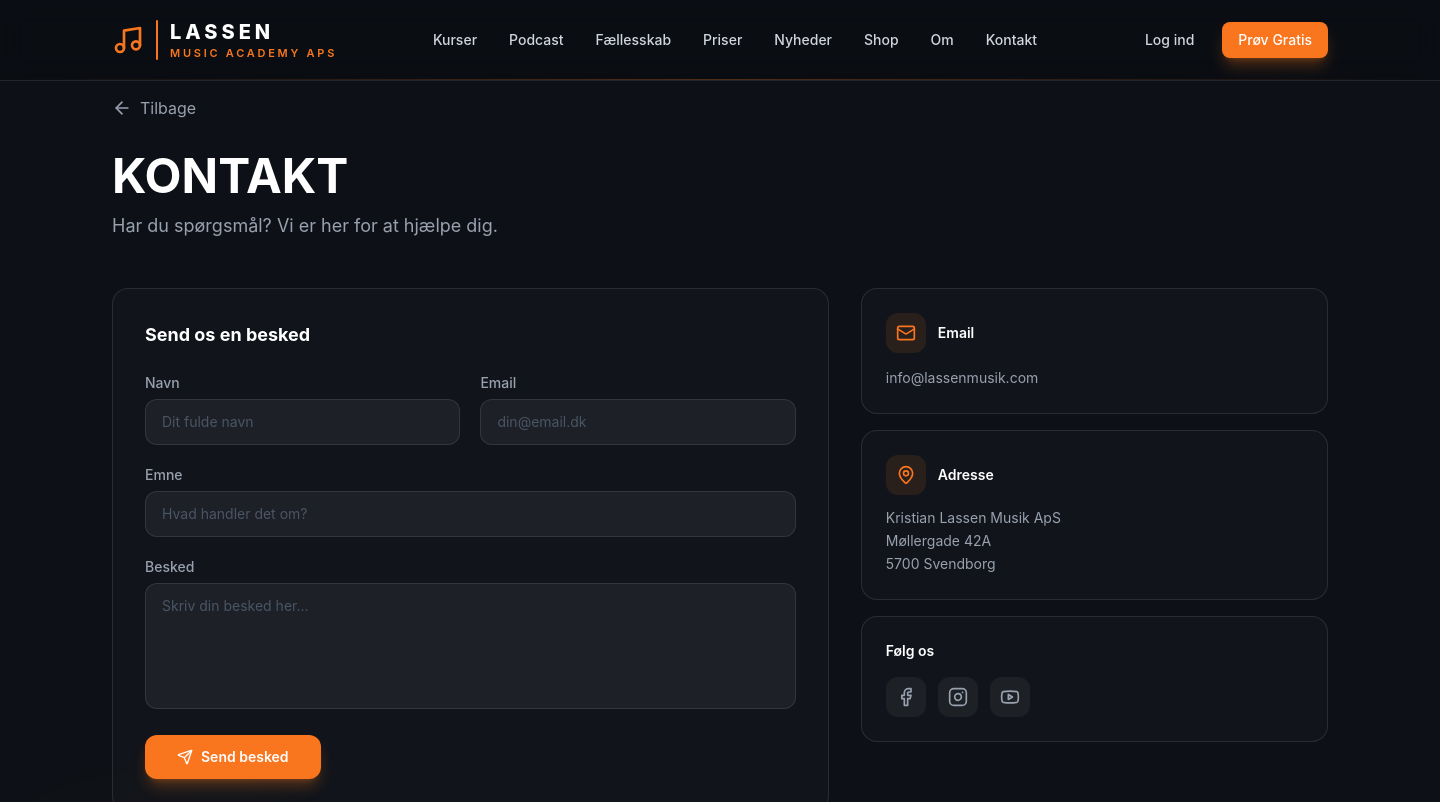
Test: Contact form › shows an error message when the function rejects the submission
Type "Anna Test" into the field with placeholder "Dit fulde navn" at (303, 422), box [145, 399, 460, 445]
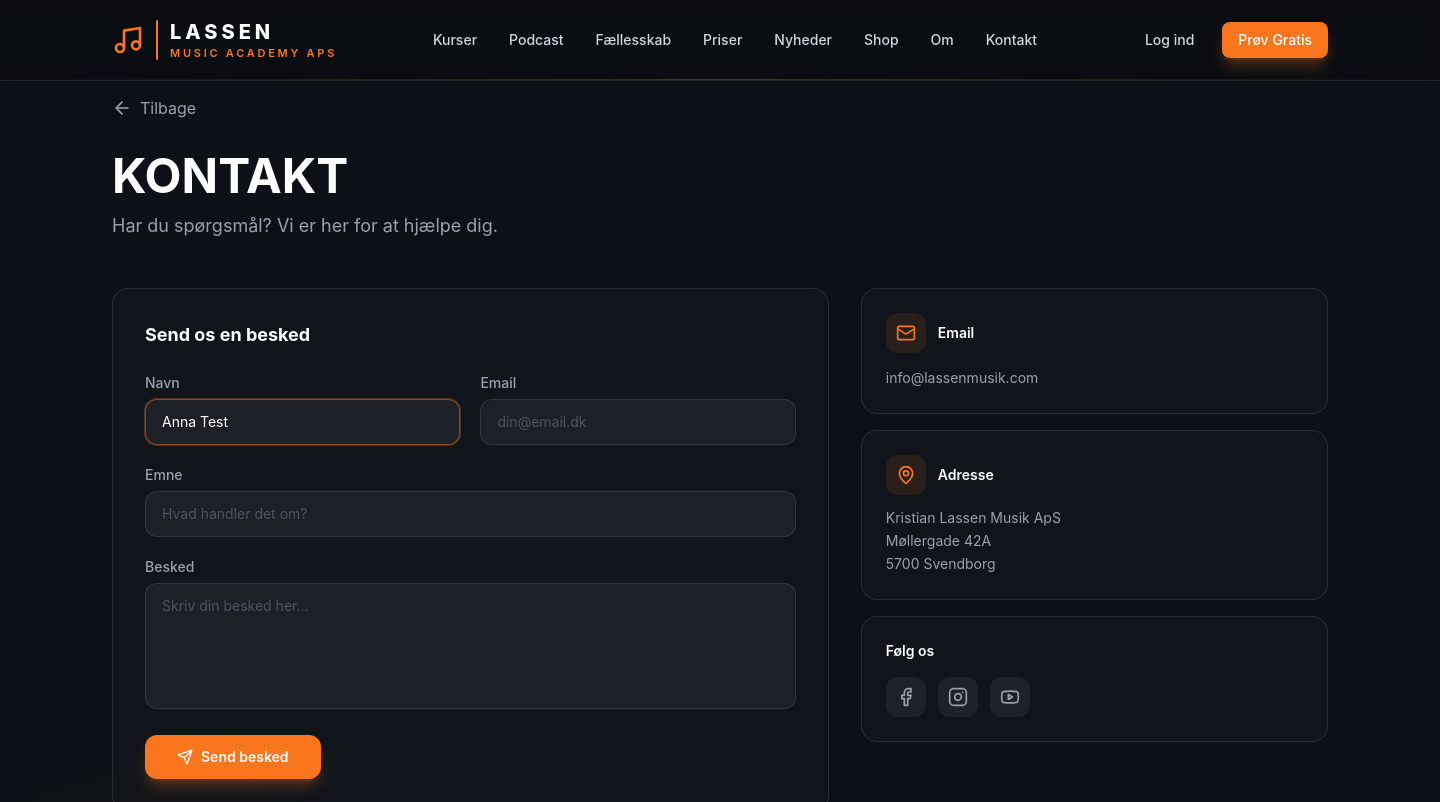
Type "anna@example.com" into the field with placeholder "din@email.dk" at (638, 422), box [480, 399, 796, 445]
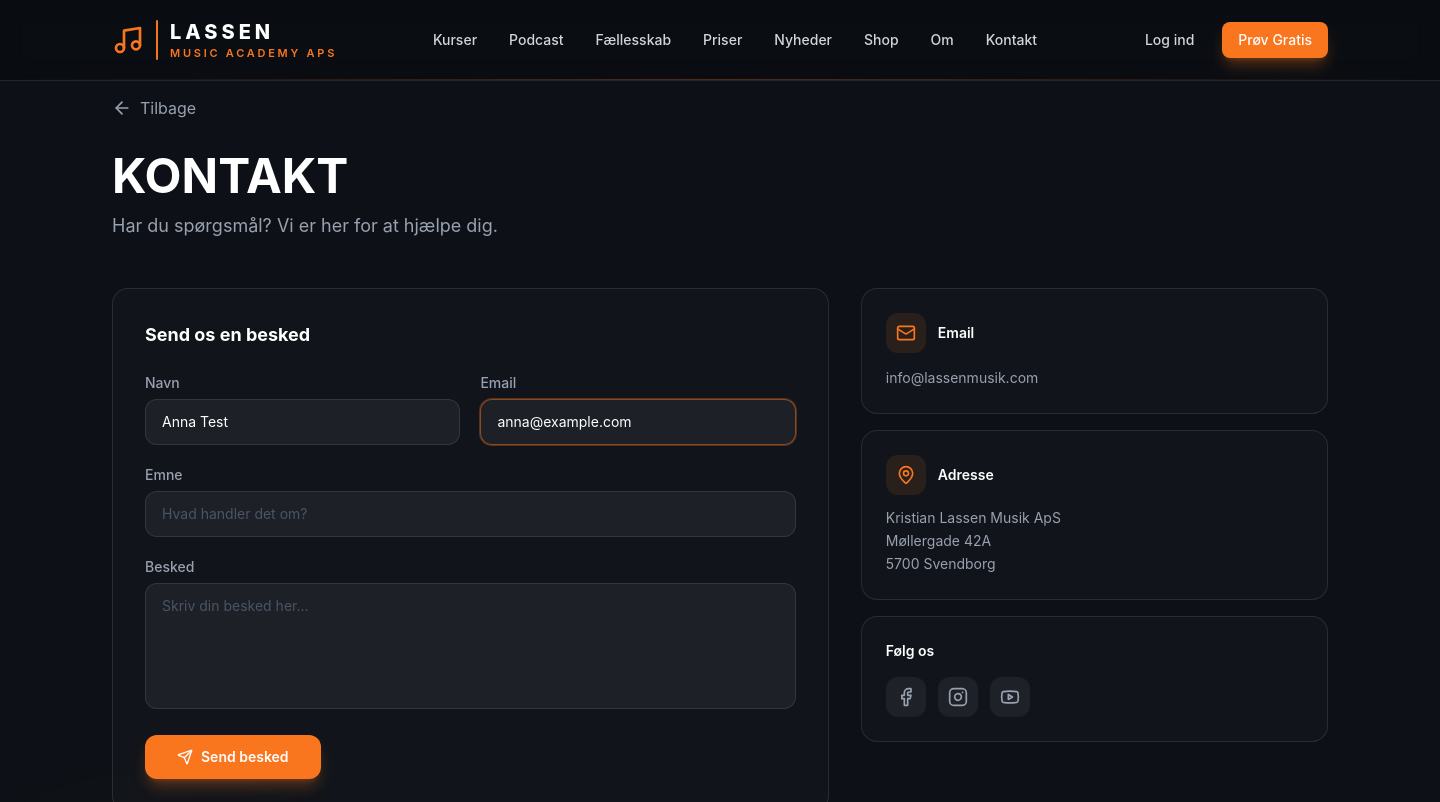
Type "Spørgsmål" into the field with placeholder "Hvad handler det om?" at (470, 514), box [145, 491, 796, 537]
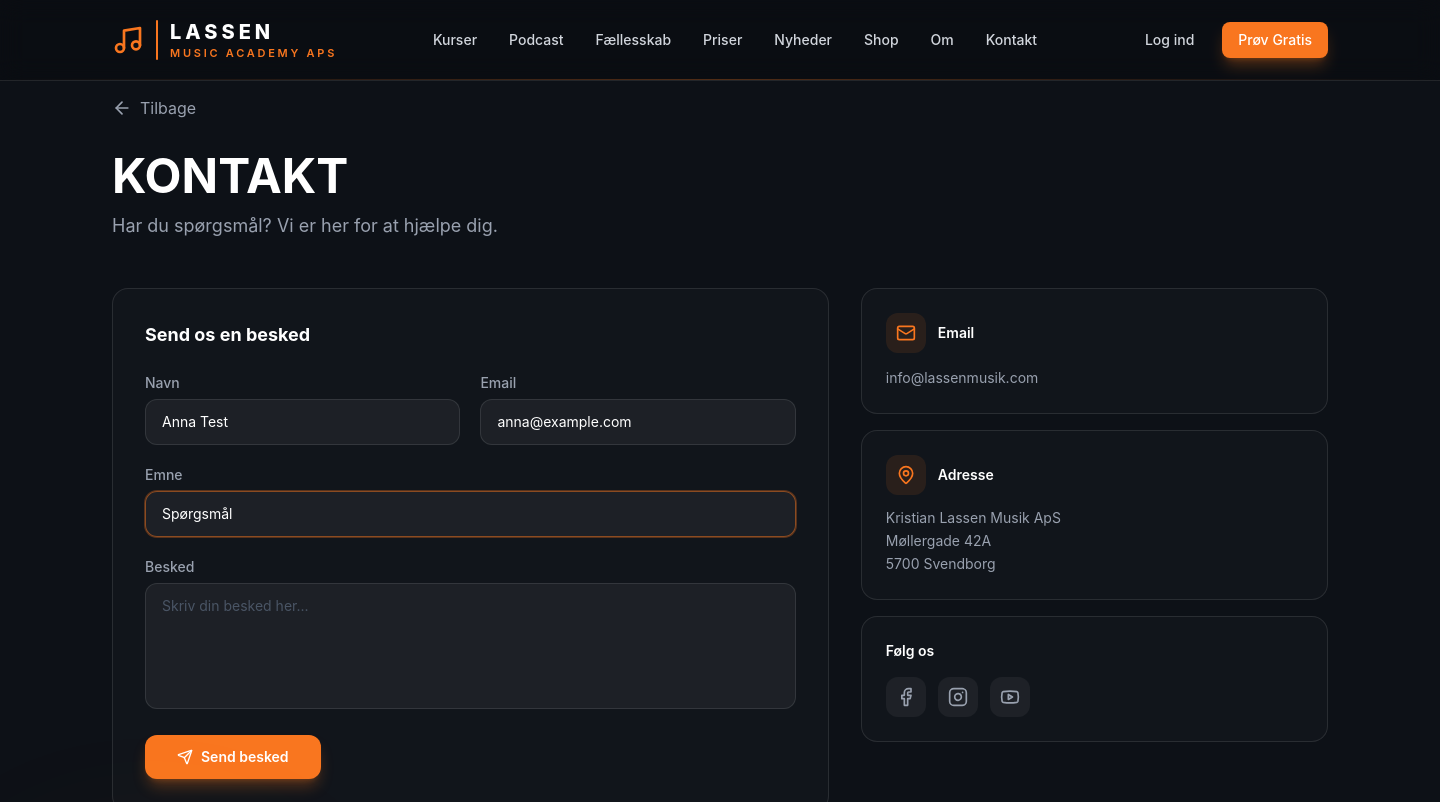
Type "Hej, jeg har et spørgsmål." into the text box with placeholder "Skriv din besked her..." at (470, 646), box [145, 583, 796, 709]
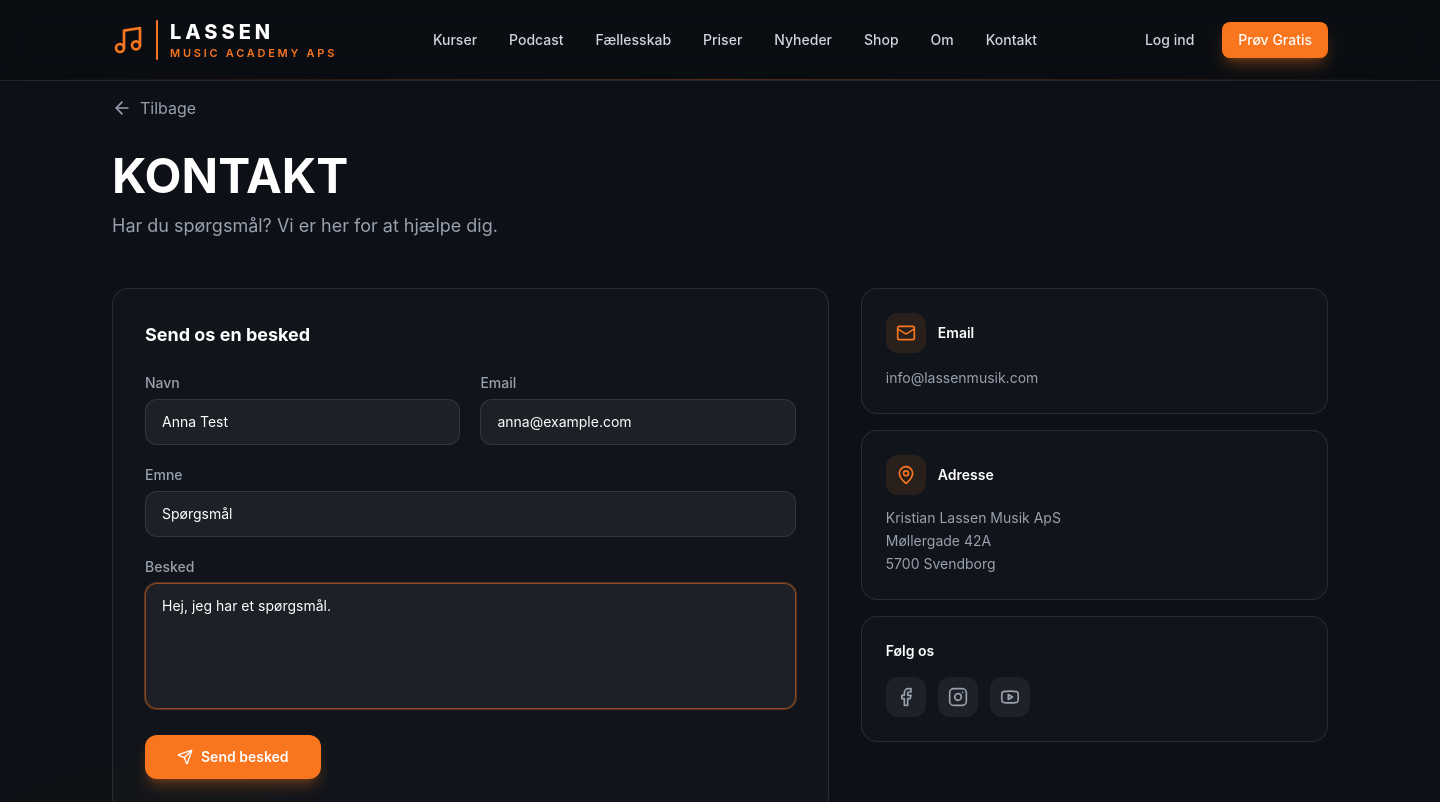
Click the button "Send besked" at (233, 757), box [145, 735, 321, 779]
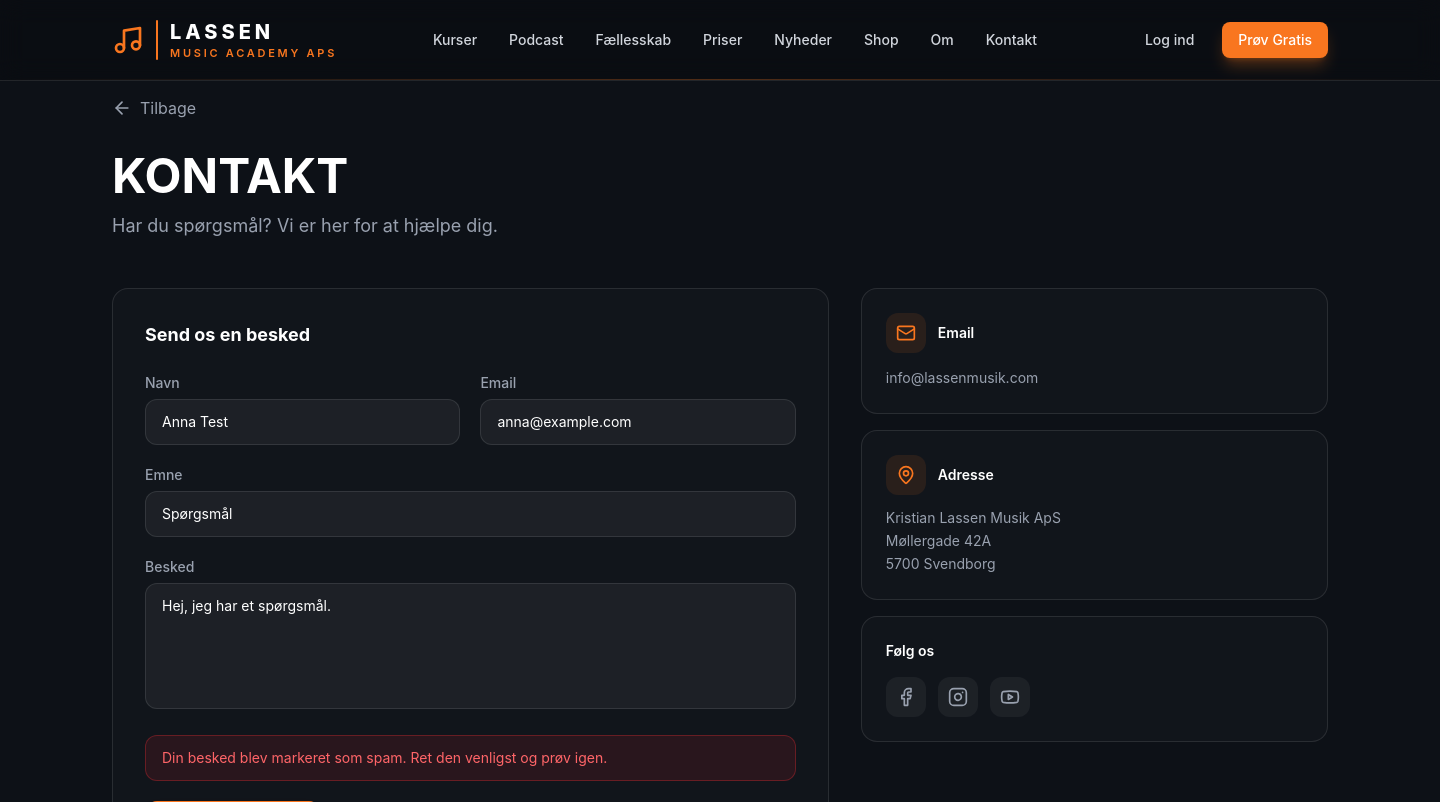
Expected: the text "markeret som spam" is shown, [162, 749, 607, 766]
